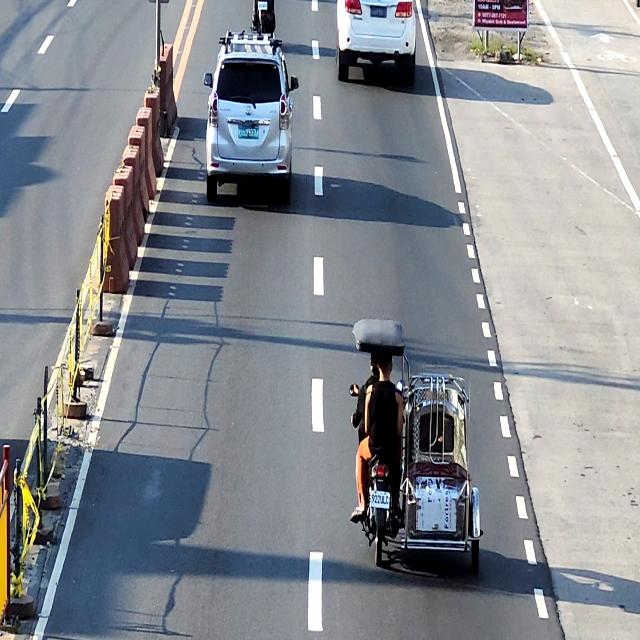Car: (203, 30, 299, 205), (336, 0, 416, 79)
License-Plate: (370, 491, 390, 508), (238, 125, 259, 139), (370, 5, 387, 18)
Tricycle: (349, 318, 483, 578)
